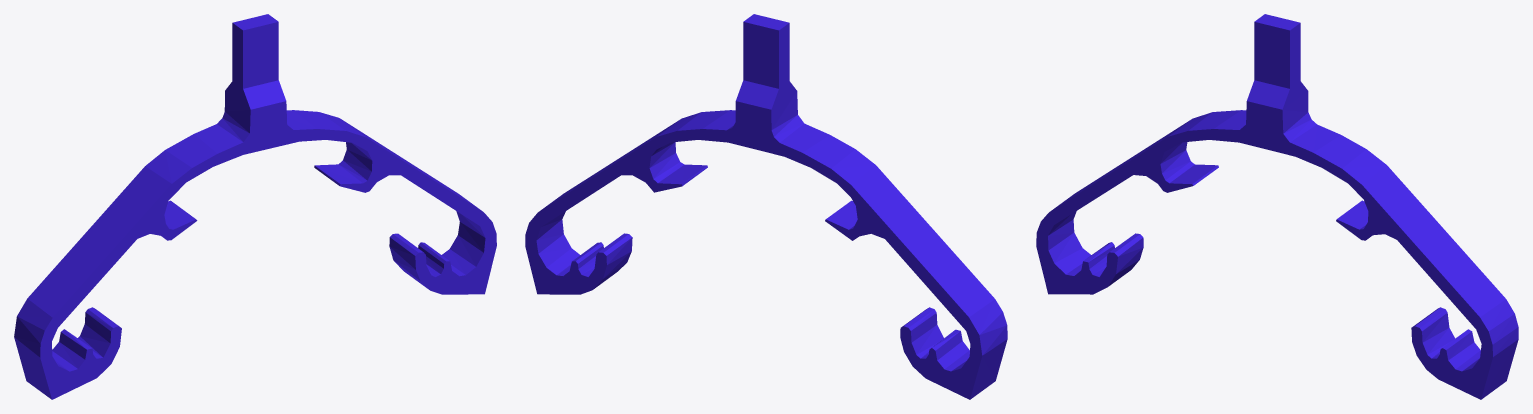
Rendered from hook.dae.
3 views of the same model, side by side, from view 1: azimuth 30°, elevation 25°; view 2: azimuth 150°, elevation 25°; view 3: azimuth 330°, elevation 25° (orthographic).
Visible parts, largest first — view 1: PZ06-FC3K-001.001; view 2: PZ06-FC3K-001.001; view 3: PZ06-FC3K-001.001.
Boxes of the visible parts, left/top/right/bottom form: PZ06-FC3K-001.001: left=14, top=14, right=496, bottom=399; PZ06-FC3K-001.001: left=525, top=14, right=1007, bottom=399; PZ06-FC3K-001.001: left=1036, top=14, right=1518, bottom=399.
Size of the model in its own units: 0.2047 by 0.02 by 0.135.
